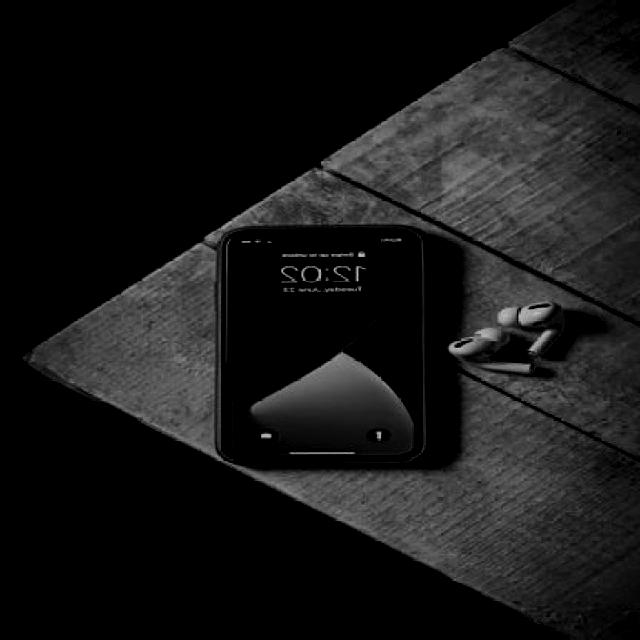fake: (222, 227, 426, 464)
